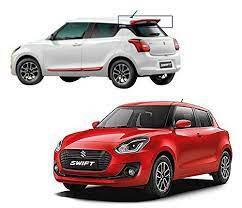Hatchback: (51, 98, 234, 199), (10, 18, 182, 88)
